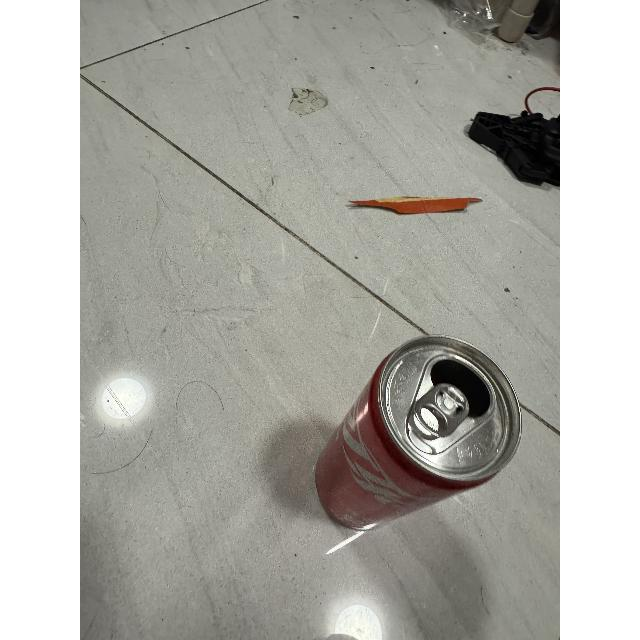coca-cola: (312, 327, 524, 533)
